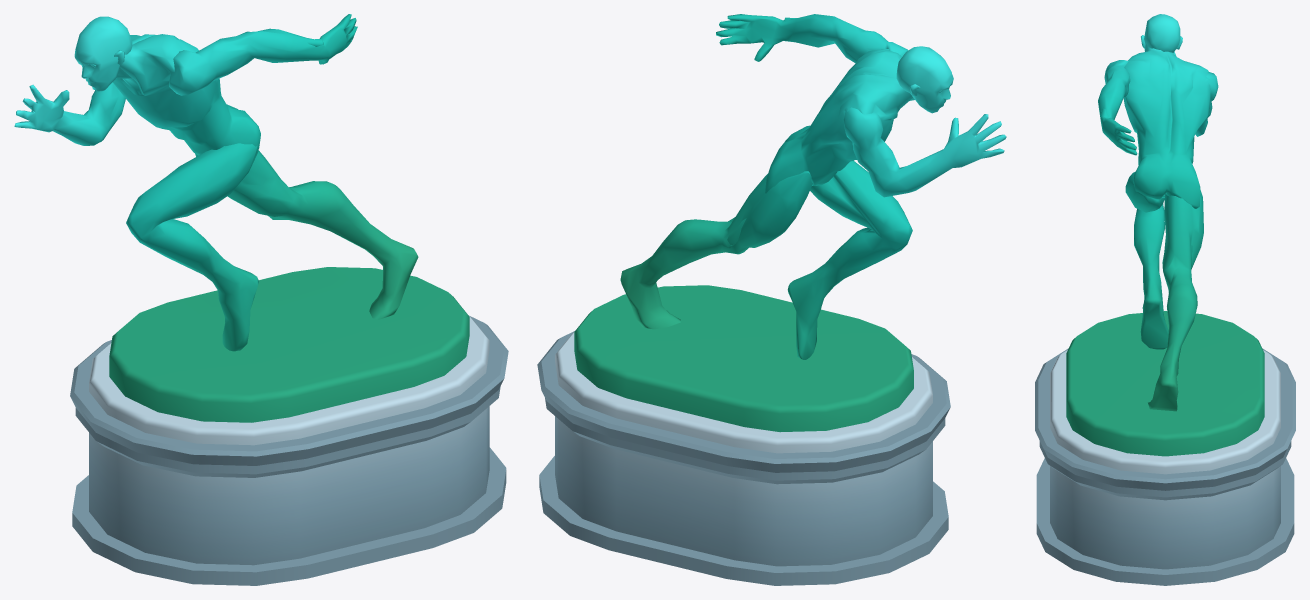
File: Statue_02.glb
3 views of the same model, side by side, from view 1: azimuth 30°, elevation 25°; view 2: azimuth 150°, elevation 25°; view 3: azimuth 270°, elevation 25° (orthographic). The views are drawn at different scales.
Parts seen in each view (by area): view 1: Statue_02; view 2: Statue_02; view 3: Statue_02.
Boxes of the visible parts, box(x1,y1,x2,y2) form: Statue_02: box(14, 14, 508, 585); Statue_02: box(537, 14, 1006, 585); Statue_02: box(1035, 14, 1295, 585).
Size of the model in its own units: 9.59 by 10.28 by 5.76.
1 material, 1 textured.
